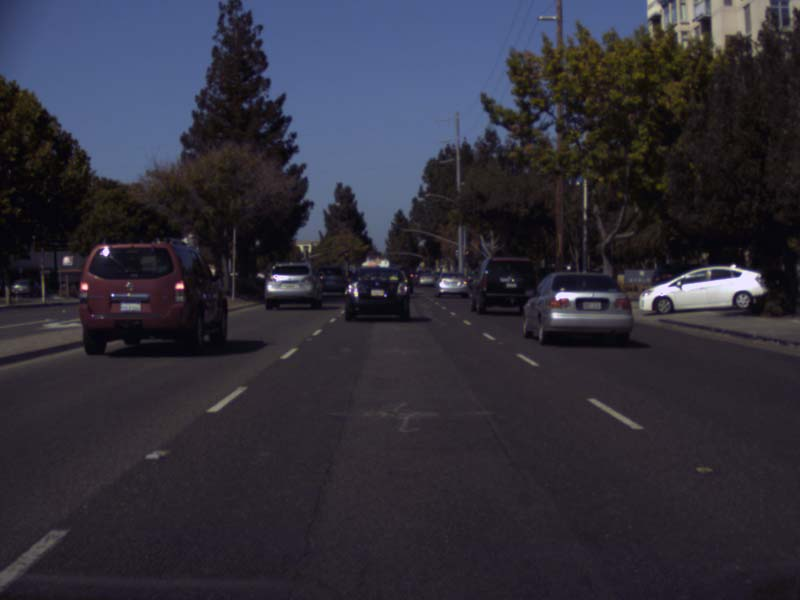Yellow: (343, 250, 348, 261)
